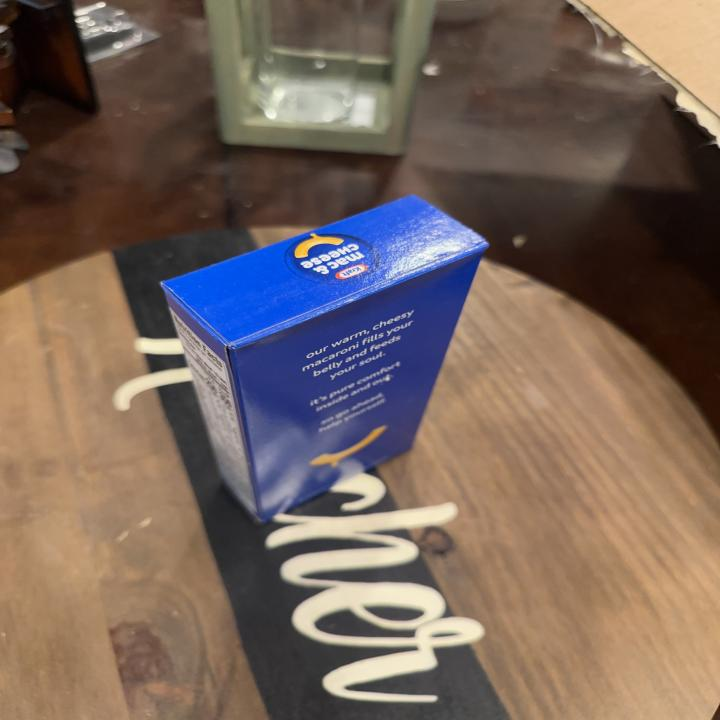Mac-And-Cheese: (157, 189, 492, 526)
